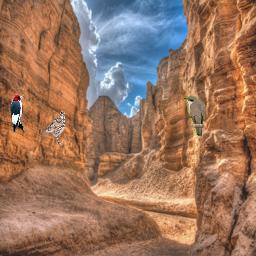Cuckoo: (183, 96, 205, 136)
Sparrow: (40, 111, 65, 146)
Woodpecker: (10, 93, 24, 133)
